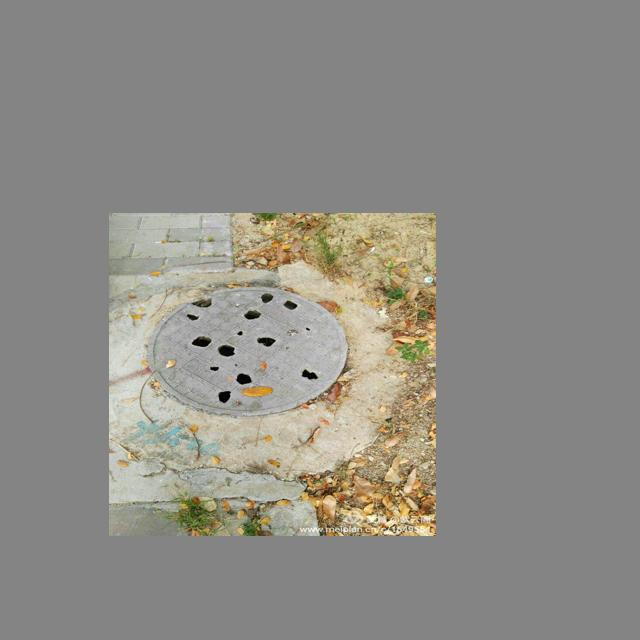broke: (144, 285, 347, 415)
